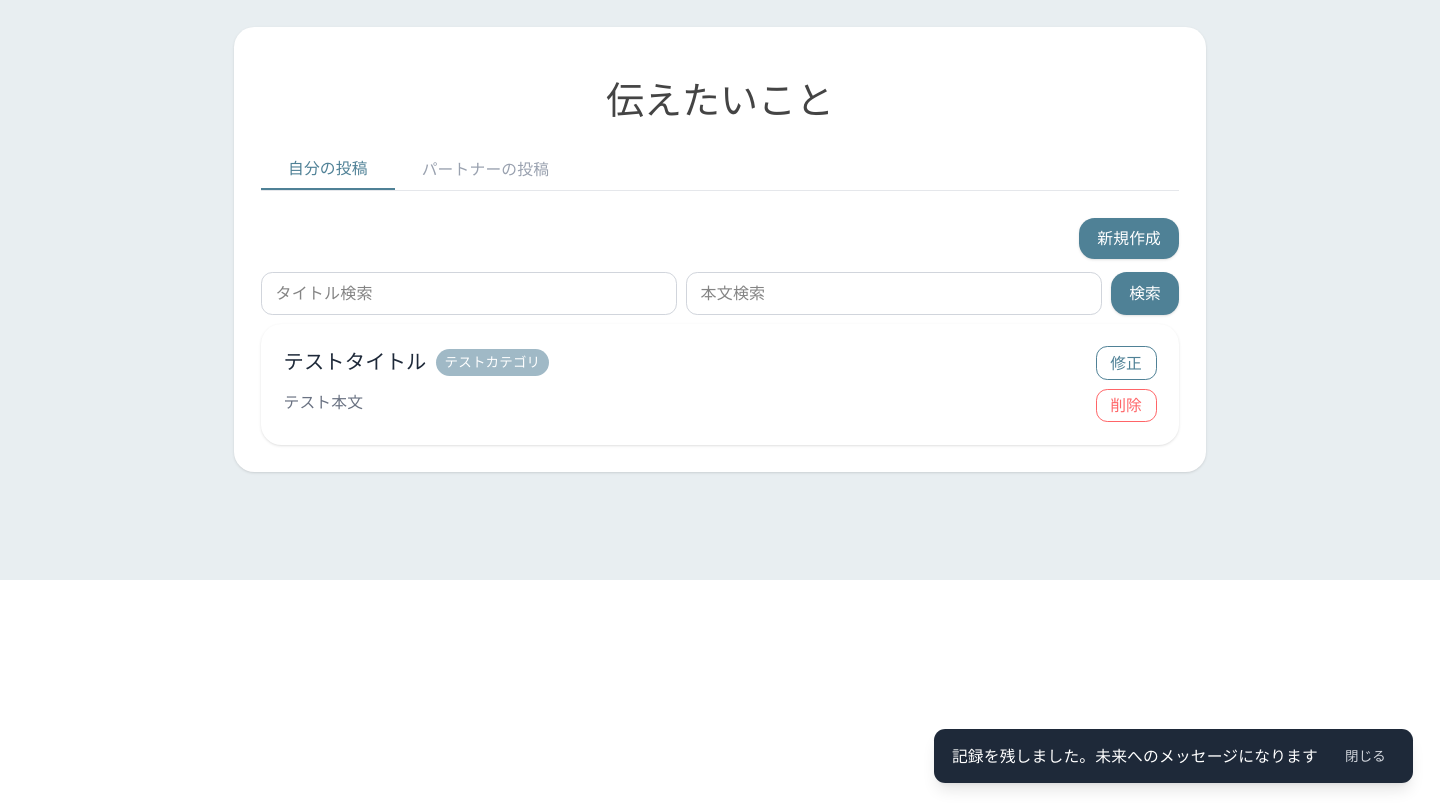
Scenario: PostList › Guide,Info,Toast › Toastは閉じるボタンで消える
Click the button with test id "toast-close". click: {"x": 1366, "y": 756}
box: top-left (1336, 742), bottom-right (1395, 770)
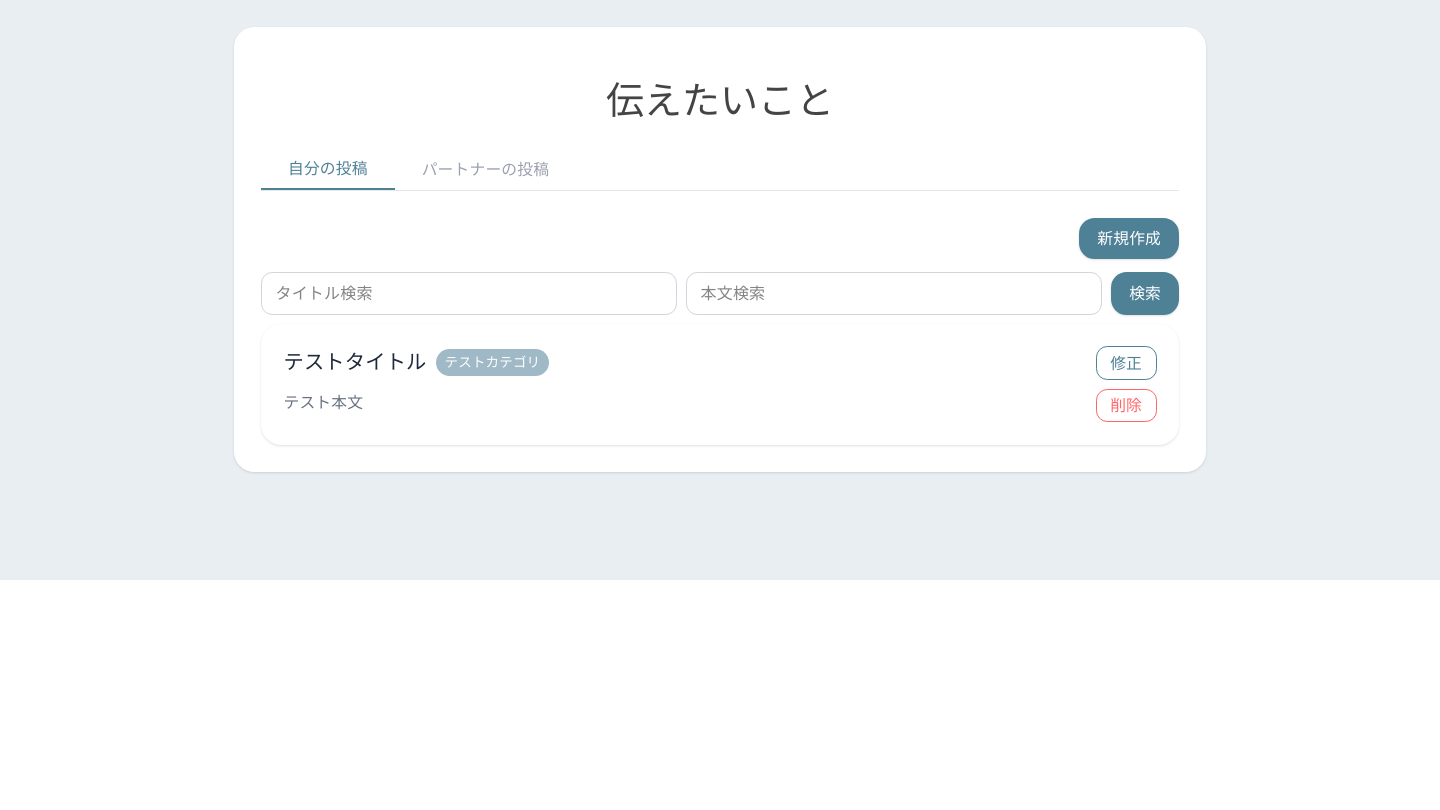
Check: the text "記録を残しました。未来へのメッセージになります" is gone
